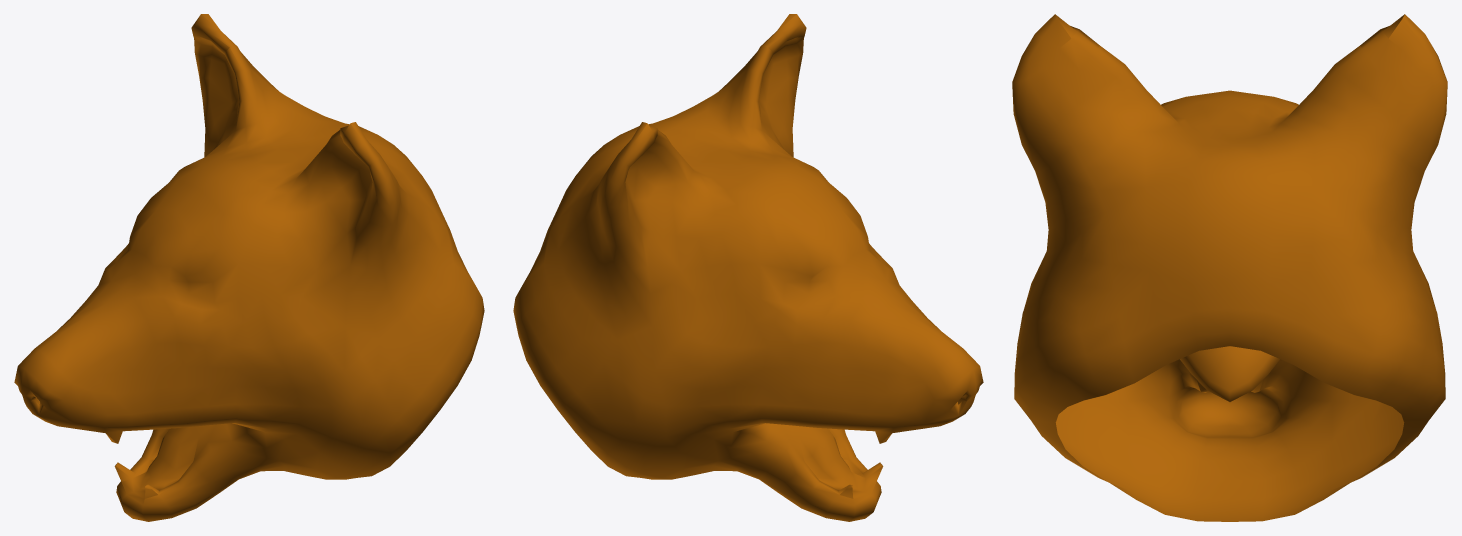
Rendered from Doge4_muzzle_standin.fbx.
3 views of the same model, side by side, from view 1: azimuth 30°, elevation 25°; view 2: azimuth 150°, elevation 25°; view 3: azimuth 270°, elevation 25° (orthographic). The views are drawn at different scales.
Parts seen in each view (by area): view 1: Mesh (2); view 2: Mesh (2); view 3: Mesh (2).
Part boxes in pixels (box(x1,y1,x2,y2)): Mesh (2): box(14, 14, 484, 521); Mesh (2): box(513, 14, 983, 521); Mesh (2): box(1012, 14, 1447, 521).
Bounding box in the file's own units: 44.6 × 42.74 × 34.68.
